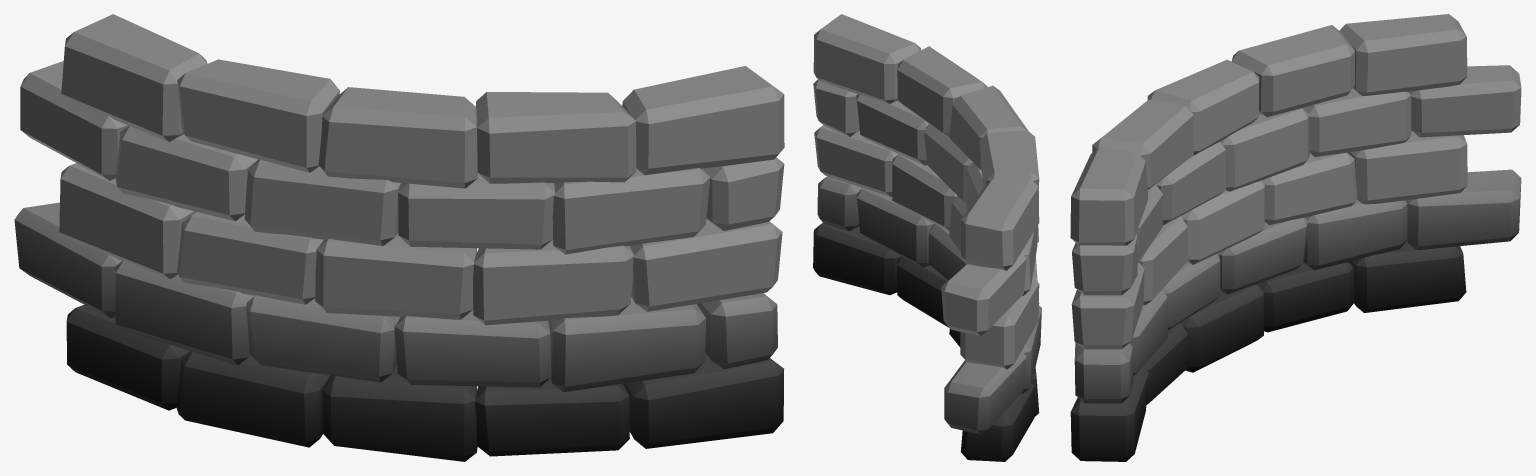
File: BrickWall2x1_01_T90_End_L.fbx
The picture shows the model from 3 angles, left to right: view 1: azimuth 30°, elevation 25°; view 2: azimuth 150°, elevation 25°; view 3: azimuth 270°, elevation 25°; orthographic projection. The views are drawn at different scales.
Visible parts, largest first — view 1: BrickWall2x1_01_T90_End_L; view 2: BrickWall2x1_01_T90_End_L; view 3: BrickWall2x1_01_T90_End_L.
Part boxes in pixels (bbox=[...]): BrickWall2x1_01_T90_End_L: bbox=[14, 14, 784, 461]; BrickWall2x1_01_T90_End_L: bbox=[813, 14, 1041, 461]; BrickWall2x1_01_T90_End_L: bbox=[1070, 14, 1521, 461].
Size of the model in its own units: 151 by 101 by 152.
